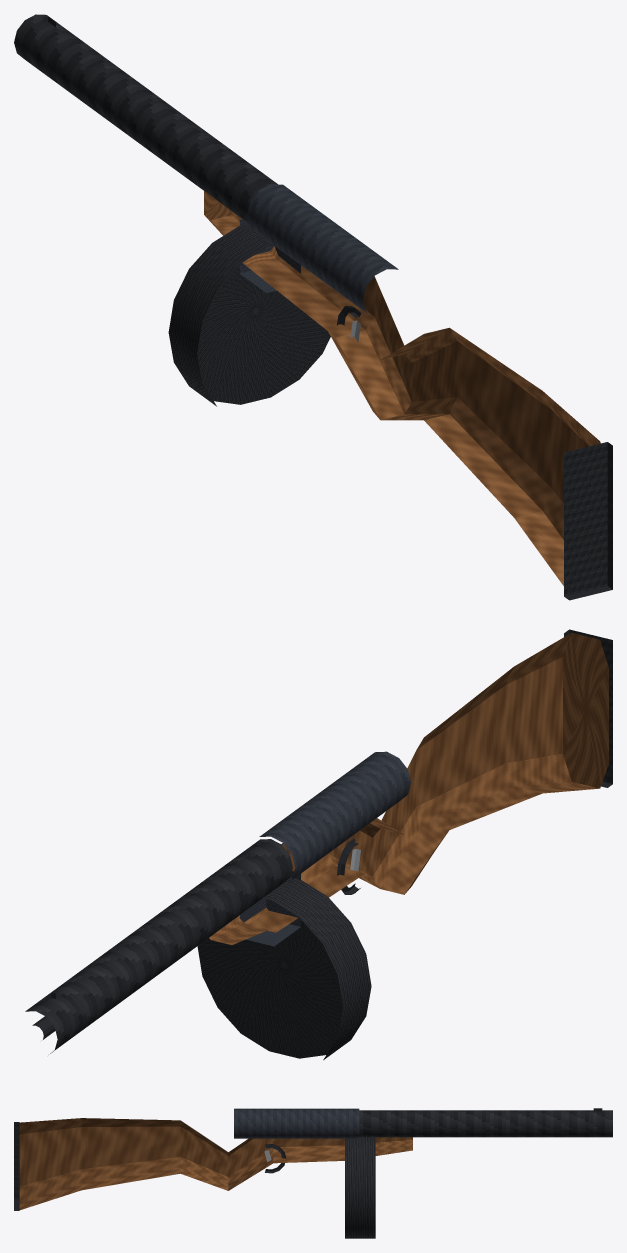
File: ppsh41.glb
3 renders of one model, top to bottom at view 1: azimuth 30°, elevation 25°; view 2: azimuth 150°, elevation 25°; view 3: azimuth 270°, elevation 25°, orthographic. The views are drawn at different scales.
Visible parts, largest first — view 1: WeaponMesh; view 2: WeaponMesh; view 3: WeaponMesh.
Part boxes in pixels (x1,y1,x2,y2): WeaponMesh: (14,14,612,600); WeaponMesh: (25,629,612,1060); WeaponMesh: (14,1108,612,1238).
Bounding box in the file's own units: 0.152 × 0.1918 × 0.838.
Materials: 4 (4 with a texture image).
